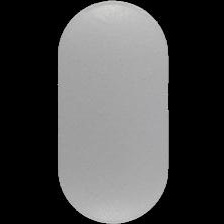0378-3569: (0, 0, 224, 224)
